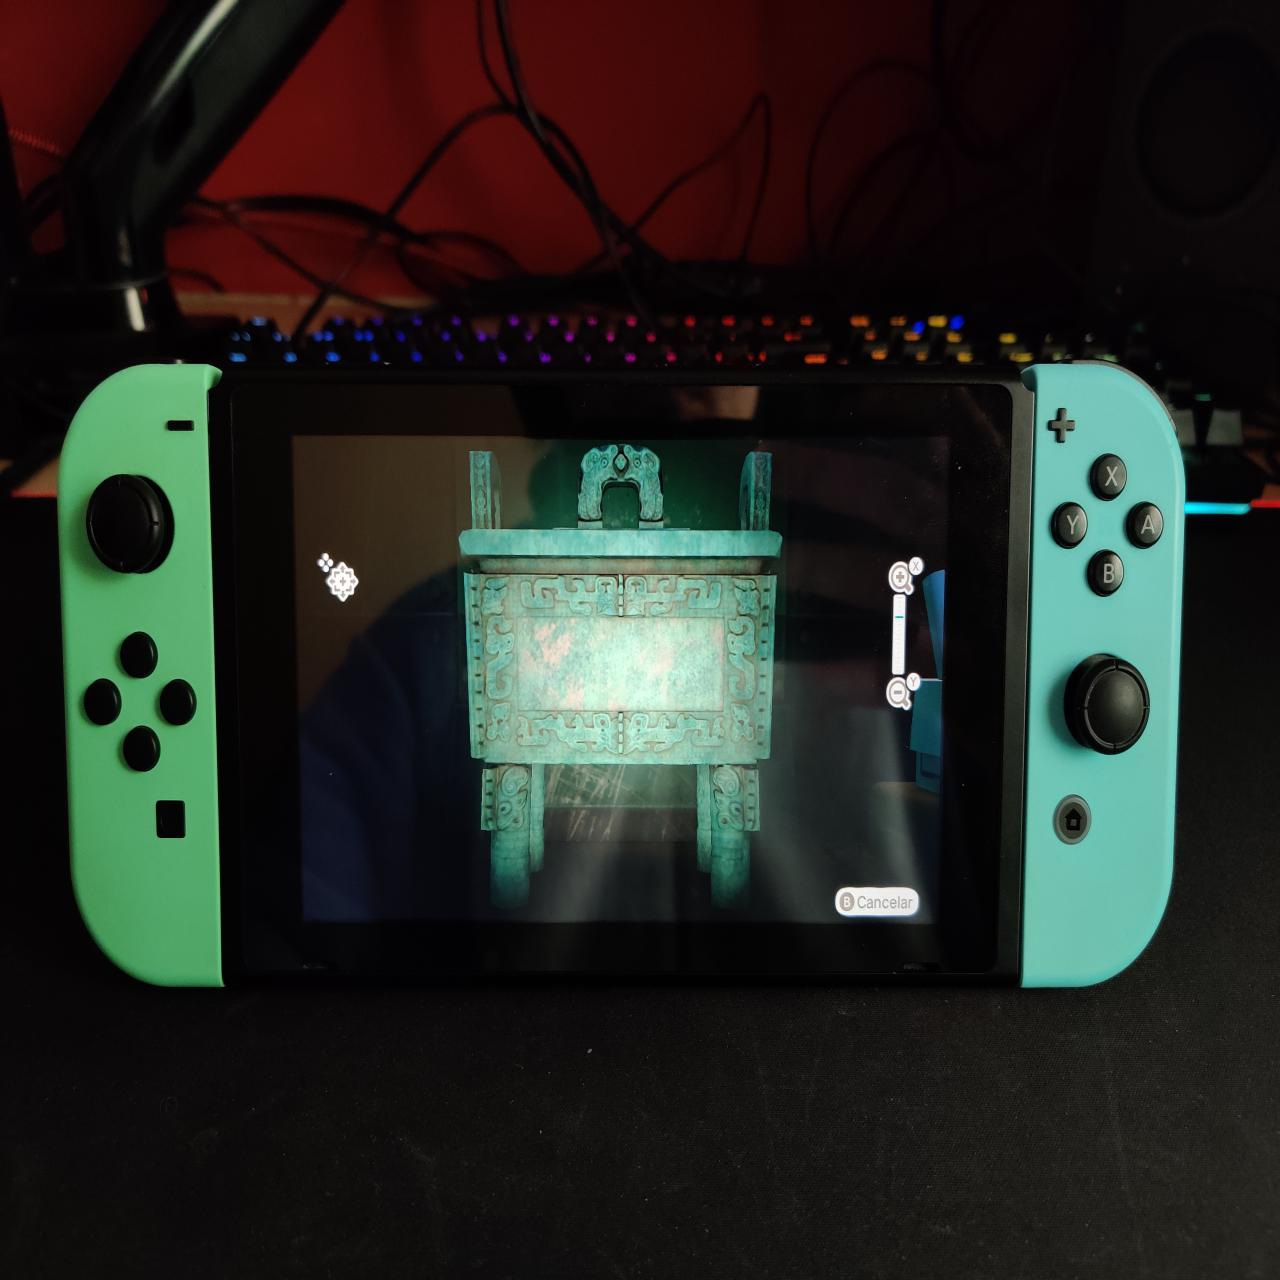HoumuwuDingFake: (459, 441, 784, 913)
